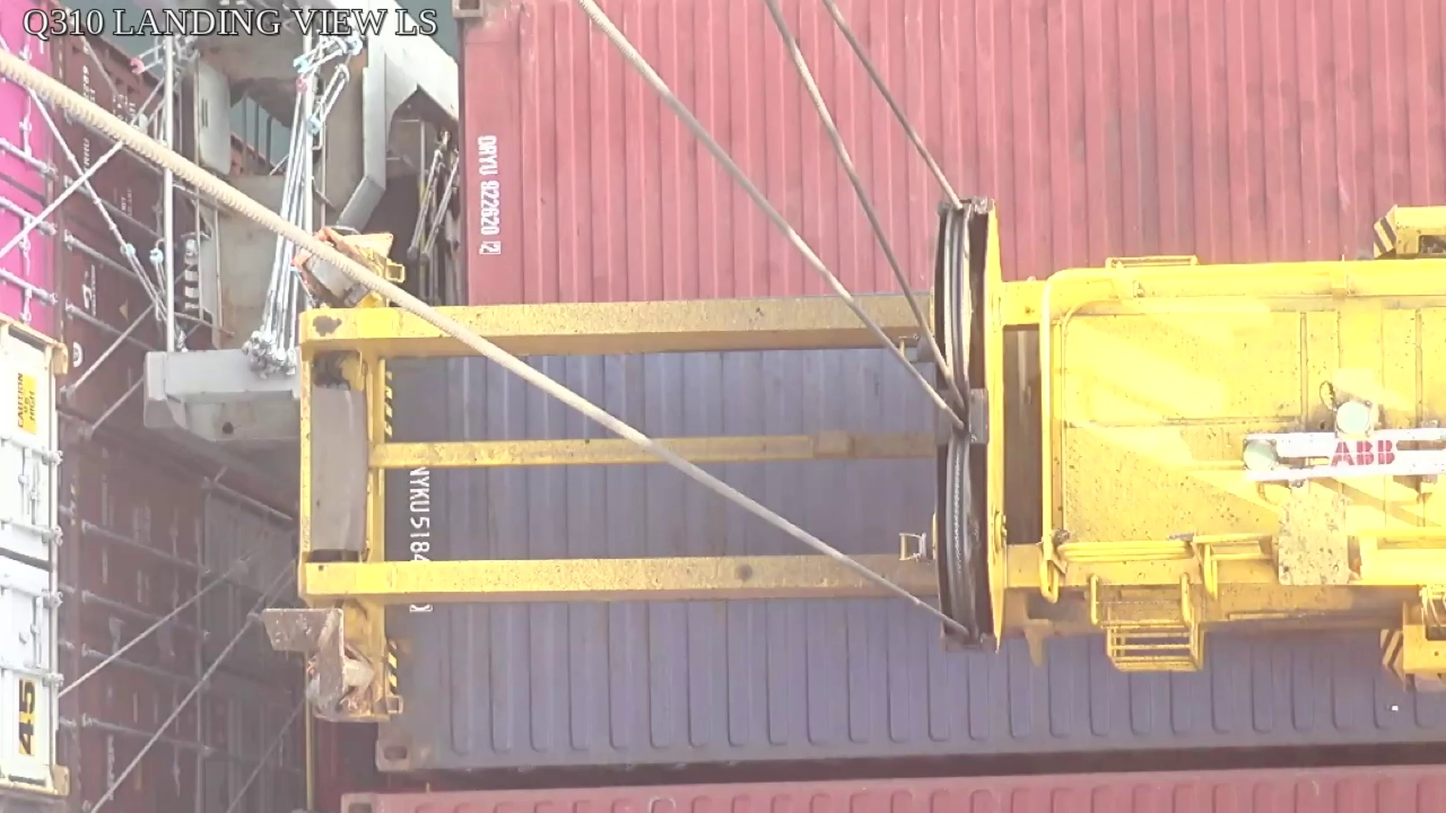aa: (932, 201, 1008, 654)
